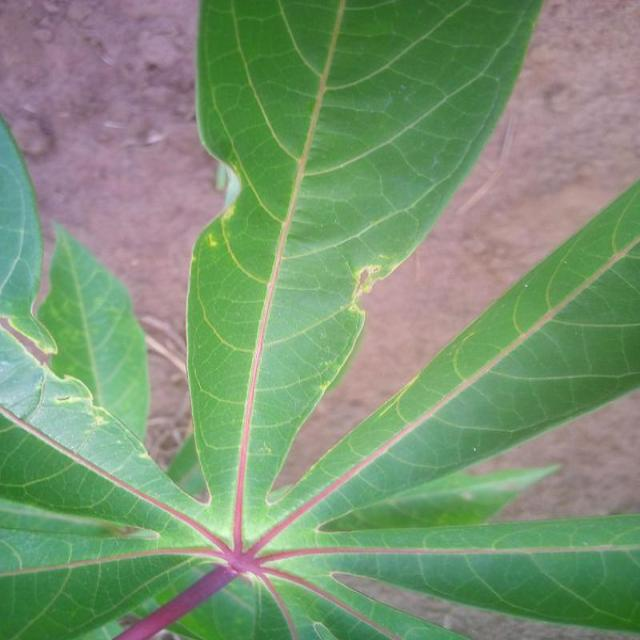cassava leaf: (0, 1, 638, 637), (184, 0, 544, 546)
